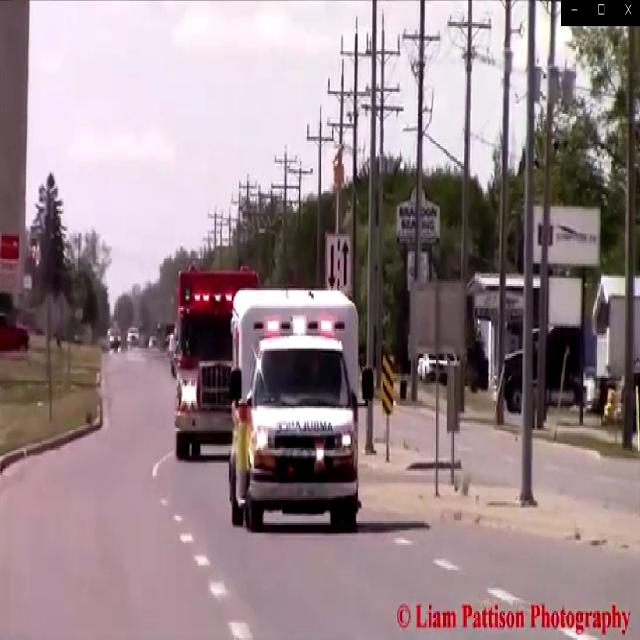emergency: (220, 280, 374, 540), (170, 254, 272, 466)
